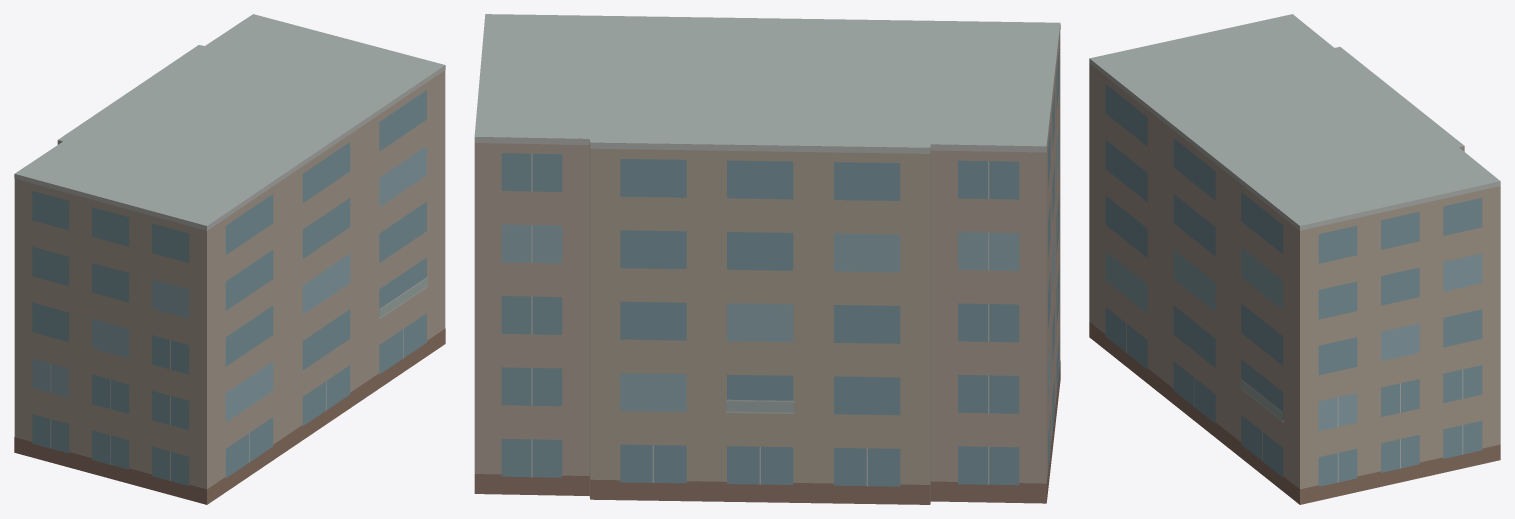
Rendered from survey-upis-32839458.glb.
The picture shows the model from 3 angles, left to right: view 1: azimuth 30°, elevation 25°; view 2: azimuth 150°, elevation 25°; view 3: azimuth 270°, elevation 25°; orthographic projection. The views are drawn at different scales.
Visible parts, largest first — view 1: survey-upis-32839458.tmp; view 2: survey-upis-32839458.tmp; view 3: survey-upis-32839458.tmp.
Part boxes in pixels (x1,y1,x2,y2): survey-upis-32839458.tmp: (14,14,445,504); survey-upis-32839458.tmp: (474,14,1060,504); survey-upis-32839458.tmp: (1089,14,1500,504).
Bounding box in the file's own units: 23.17 × 14.2 × 18.99.
